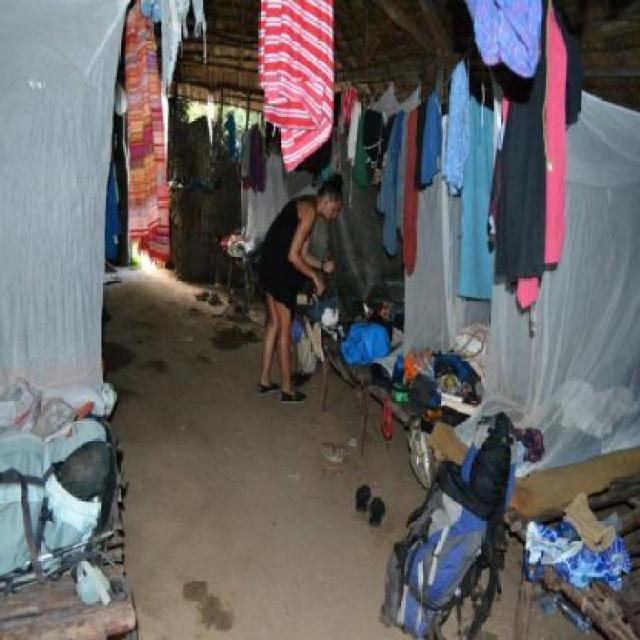backpack: (374, 429, 520, 640), (0, 406, 120, 619)
